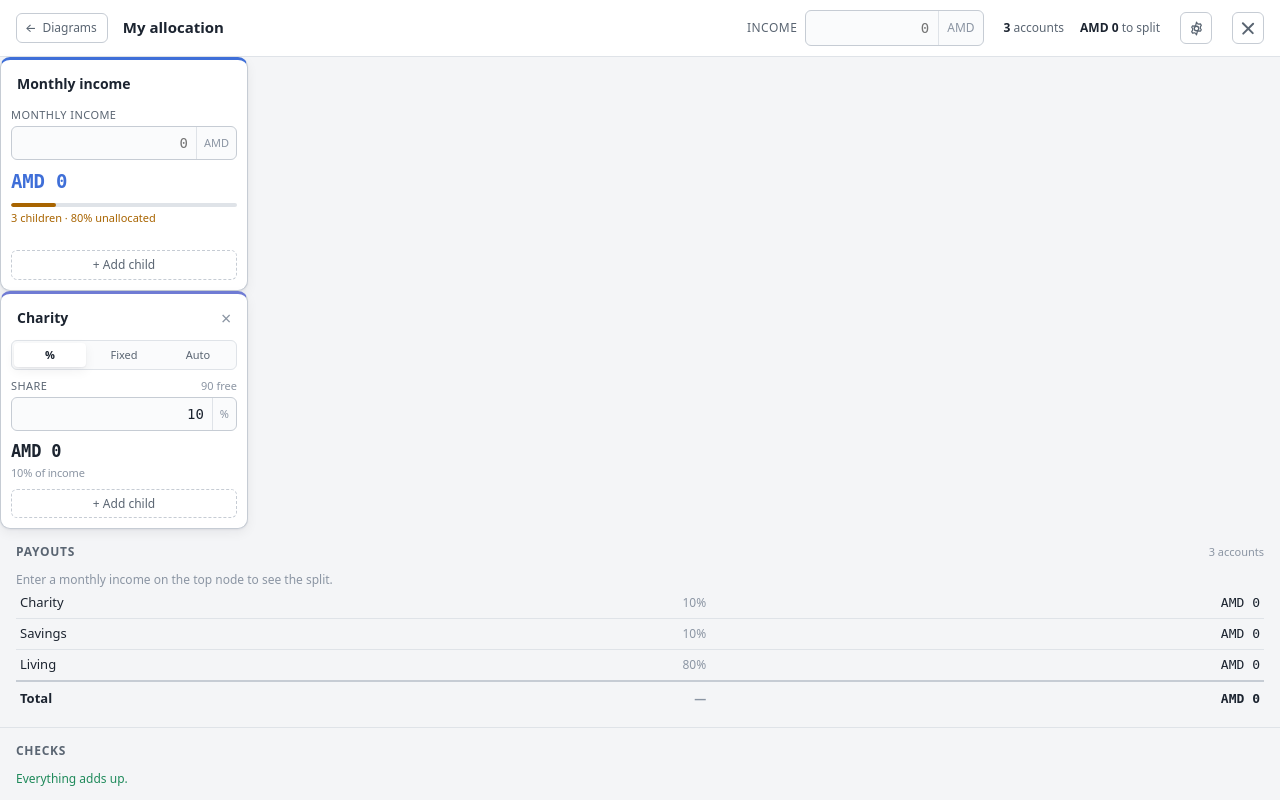
Test: deleting › removes a leaf and its payout row
Expected: the text "Charity" is shown, [20, 593, 64, 611]
Click the button named "Delete node" at (226,318), box [215, 307, 237, 329]
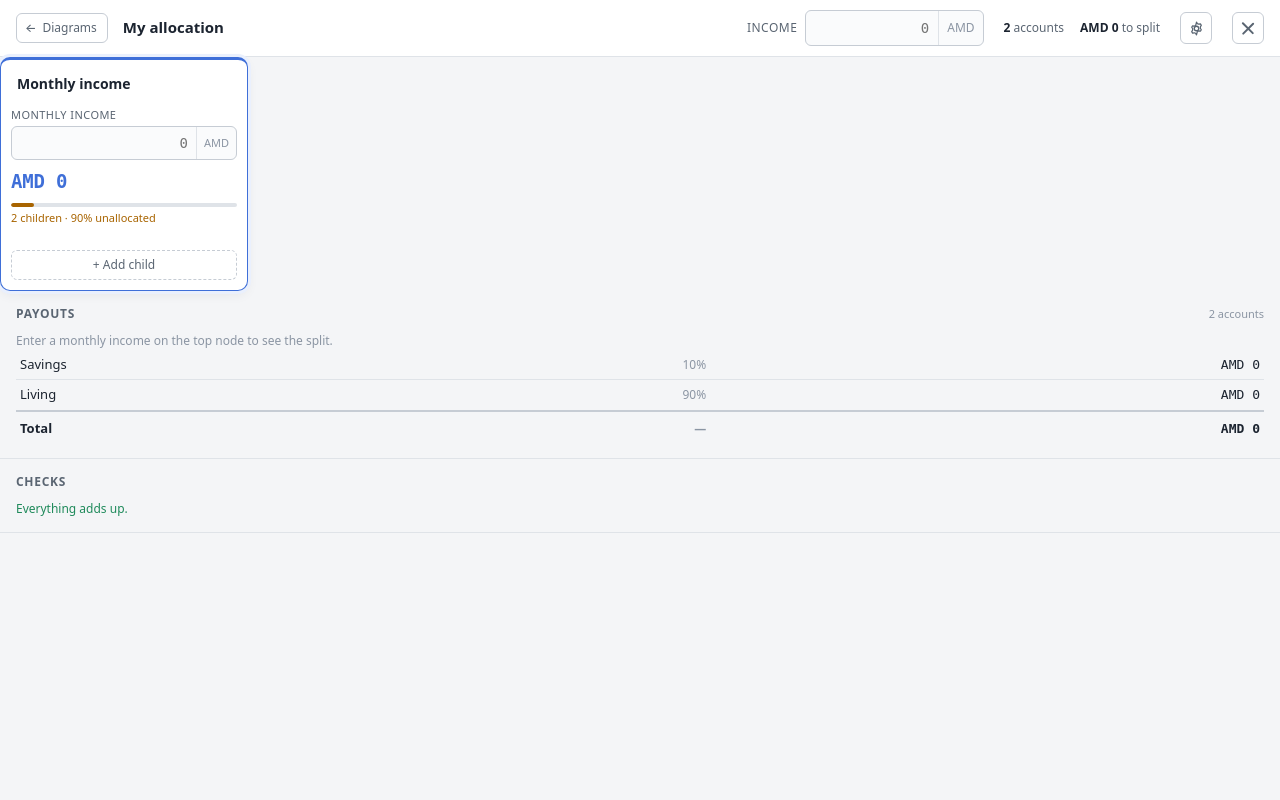
Result: the text "Charity" is gone
